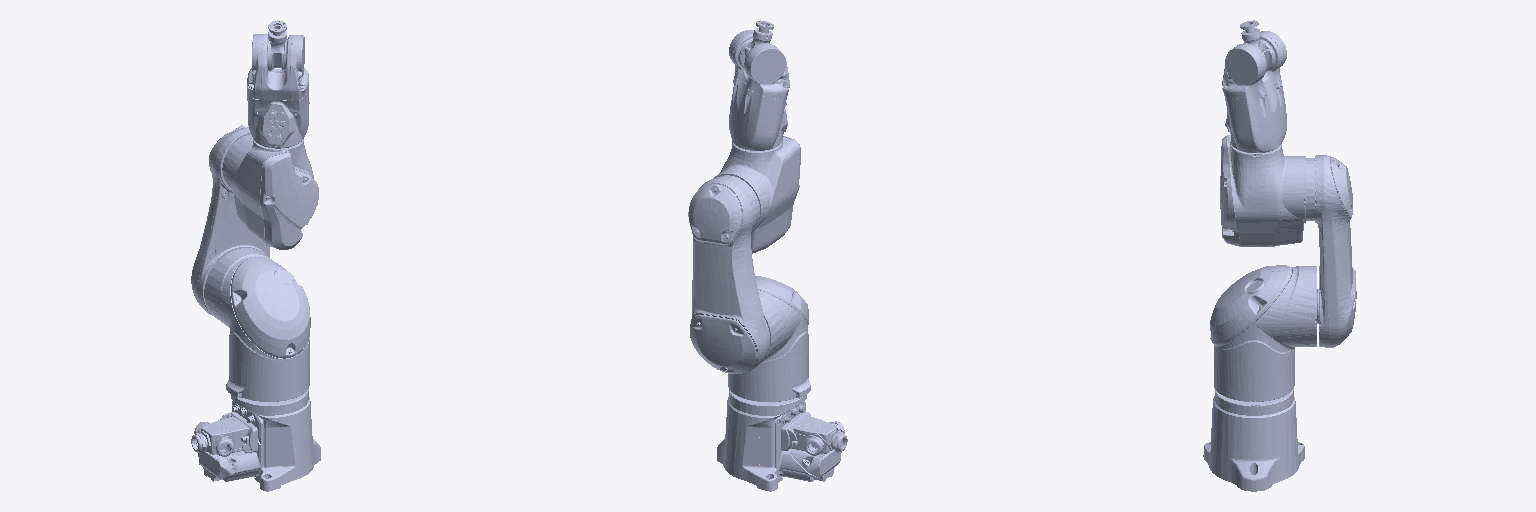
robot.urdf — staubli:
<?xml version="1.0" encoding="utf-8"?>
<!-- This URDF was automatically created by SolidWorks to URDF Exporter! Originally created by [author] ([email redacted]) 
     Commit Version: 1.5.1-0-g916b5db  Build Version: 1.5.7152.31018
     For more information, please see http://wiki.ros.org/sw_urdf_exporter -->
<robot
  name="staubli">

  <!--  %%%%%%%%%%%%%%%%%%%%%%%%%%%%%%%%%%%%%%%%%%%%%%%%%%%%%%%%%%%%%%%%%%%%%%%%%%%%%%%%%%%%%%%%%%%%%%  -->
  <!--  For display  -->
  <link name="world" />
  <joint name="world_joint" type="fixed">
      <parent link="world" />
      <child link="base" />
      <origin xyz="0.0 0.0 0.0" rpy="-1.57 0.0 0.0" />
  </joint>

  <link
    name="base">
    <inertial>
      <origin
        xyz="-0.036093 -0.0011918 0.08178"
        rpy="0 0 0" />
      <mass
        value="7.5748" />
      <inertia
        ixx="0.029538"
        ixy="-8.9594E-05"
        ixz="0.00038731"
        iyy="0.027722"
        iyz="9.1547E-06"
        izz="0.022274" />
    </inertial>
    <visual>
      <origin
        xyz="0 0 0"
        rpy="0 0 0" />
      <geometry>
        <mesh
          filename="package://staubli/meshes/base.STL" />
      </geometry>
      <material
        name="">
        <color
          rgba="0.79216 0.81961 0.93333 1" />
      </material>
    </visual>
    <collision>
      <origin
        xyz="0 0 0"
        rpy="0 0 0" />
      <geometry>
        <mesh
          filename="package://staubli/meshes/base.STL" />
      </geometry>
    </collision>
  </link>
  <link
    name="shoulder">
    <inertial>
      <origin
        xyz="-0.00023698 -0.13392 0.023184"
        rpy="0 0 0" />
      <mass
        value="7.2296" />
      <inertia
        ixx="0.059563"
        ixy="0.00017994"
        ixz="-4.0104E-05"
        iyy="0.037079"
        iyz="0.010038"
        izz="0.050678" />
    </inertial>
    <visual>
      <origin
        xyz="0 0 0"
        rpy="0 0 0" />
      <geometry>
        <mesh
          filename="package://staubli/meshes/shoulder.STL" />
      </geometry>
      <material
        name="">
        <color
          rgba="0.79216 0.81961 0.93333 1" />
      </material>
    </visual>
    <collision>
      <origin
        xyz="0 0 0"
        rpy="0 0 0" />
      <geometry>
        <mesh
          filename="package://staubli/meshes/shoulder.STL" />
      </geometry>
    </collision>
  </link>
  <joint
    name="base_shoulder_joint"
    type="revolute">
    <origin
      xyz="0 -0.19562 0"
      rpy="0 0 0" />
    <parent
      link="base" />
    <child
      link="shoulder" />
    <axis
      xyz="0 1 0" />
    <limit
      lower="-2.9671" upper="2.9671"
      effort="20"
      velocity="2" />
    <!--dynamics
      damping="0.7"
      friction="100" /-->
  </joint>
  <link
    name="arm">
    <inertial>
      <origin
        xyz="0.001767 -0.12741 0.041731"
        rpy="0 0 0" />
      <mass
        value="4.1314" />
      <inertia
        ixx="0.063289"
        ixy="0.00024419"
        ixz="2.1544E-05"
        iyy="0.0084984"
        iyz="-0.0015531"
        izz="0.068274" />
    </inertial>
    <visual>
      <origin
        xyz="0 0 0"
        rpy="0 0 0" />
      <geometry>
        <mesh
          filename="package://staubli/meshes/arm.STL" />
      </geometry>
      <material
        name="">
        <color
          rgba="0.79216 0.81961 0.93333 1" />
      </material>
    </visual>
    <collision>
      <origin
        xyz="0 0 0"
        rpy="0 0 0" />
      <geometry>
        <mesh
          filename="package://staubli/meshes/arm.STL" />
      </geometry>
    </collision>
  </link>
  <joint
    name="shoulder_arm_joint"
    type="revolute">
    <origin
      xyz="0 -0.18638 0.13"
      rpy="0 0 0.083621" />
    <parent
      link="shoulder" />
    <child
      link="arm" />
    <axis
      xyz="0 0 1" />
    <limit
      lower="-2.9671" upper="2.9671"
      effort="20"
      velocity="2" />
    <!--dynamics
      damping="0.7"
      friction="100" /-->
  </joint>
  <link
    name="elbow">
    <inertial>
      <origin
        xyz="-0.0038856 0.0079479 -0.10609"
        rpy="0 0 0" />
      <mass
        value="4.7834" />
      <inertia
        ixx="0.029621"
        ixy="0.00014964"
        ixz="-0.00068515"
        iyy="0.01953"
        iyz="-0.00061223"
        izz="0.022392" />
    </inertial>
    <visual>
      <origin
        xyz="0 0 0"
        rpy="0 0 0" />
      <geometry>
        <mesh
          filename="package://staubli/meshes/elbow.STL" />
      </geometry>
      <material
        name="">
        <color
          rgba="0.79216 0.81961 0.93333 1" />
      </material>
    </visual>
    <collision>
      <origin
        xyz="0 0 0"
        rpy="0 0 0" />
      <geometry>
        <mesh
          filename="package://staubli/meshes/elbow.STL" />
      </geometry>
    </collision>
  </link>
  <joint
    name="arm_elbow_joint"
    type="revolute">
    <origin
      xyz="0 -0.29 0"
      rpy="0 0 -0.083621" />
    <parent
      link="arm" />
    <child
      link="elbow" />
    <axis
      xyz="0 0 1" />
    <limit
      lower="-2.9671" upper="2.9671"
      effort="20"
      velocity="2" />
    <!--dynamics
      damping="0.7"
      friction="100" /-->
  </joint>
  <link
    name="forearm">
    <inertial>
      <origin
        xyz="-0.0028825 7.4416E-07 0.10602"
        rpy="0 0 0" />
      <mass
        value="2.2867" />
      <inertia
        ixx="0.0056823"
        ixy="3.2614E-08"
        ixz="-0.00022641"
        iyy="0.004438"
        iyz="-6.8535E-07"
        izz="0.0043222" />
    </inertial>
    <visual>
      <origin
        xyz="0 0 0"
        rpy="0 0 0" />
      <geometry>
        <mesh
          filename="package://staubli/meshes/forearm.STL" />
      </geometry>
      <material
        name="">
        <color
          rgba="0.79216 0.81961 0.93333 1" />
      </material>
    </visual>
    <collision>
      <origin
        xyz="0 0 0"
        rpy="0 0 0" />
      <geometry>
        <mesh
          filename="package://staubli/meshes/forearm.STL" />
      </geometry>
    </collision>
  </link>
  <joint
    name="elbow_forarm_joint"
    type="revolute">
    <origin
      xyz="0 -0.10845 -0.1253"
      rpy="1.5708 -0.9718 0" />
    <parent
      link="elbow" />
    <child
      link="forearm" />
    <axis
      xyz="0 0 1" />
    <limit
      lower="-2.9671" upper="2.9671"
      effort="20"
      velocity="2" />
    <!--dynamics
      damping="0.7"
      friction="100" /-->
  </joint>
  <link
    name="wrist">
    <inertial>
      <origin
        xyz="0.00019039 -0.01525 -0.00049904"
        rpy="0 0 0" />
      <mass
        value="0.11471" />
      <inertia
        ixx="8.4067E-05"
        ixy="-3.5655E-07"
        ixz="-4.7628E-11"
        iyy="2.9425E-05"
        iyz="4.1043E-09"
        izz="9.5321E-05" />
    </inertial>
    <visual>
      <origin
        xyz="0 0 0"
        rpy="0 0 0" />
      <geometry>
        <mesh
          filename="package://staubli/meshes/wrist.STL" />
      </geometry>
      <material
        name="">
        <color
          rgba="0.79216 0.81961 0.93333 1" />
      </material>
    </visual>
    <collision>
      <origin
        xyz="0 0 0"
        rpy="0 0 0" />
      <geometry>
        <mesh
          filename="package://staubli/meshes/wrist.STL" />
      </geometry>
    </collision>
  </link>
  <joint
    name="forarm_wrist_joint"
    type="revolute">
    <origin
      xyz="0 0 0.20175"
      rpy="-1.5708 0.23604 3.1416" />
    <parent
      link="forearm" />
    <child
      link="wrist" />
    <axis
      xyz="0 0 1" />
    <limit
      lower="-2.9671" upper="2.9671"
      effort="20"
      velocity="2" />
    <!--dynamics
      damping="0.7"
      friction="100" /-->
  </joint>
  <link
    name="flange">
    <inertial>
      <origin
        xyz="-0.00019716 2.5532E-09 0.010257"
        rpy="0 0 0" />
      <mass
        value="0.0088462" />
      <inertia
        ixx="1.0446E-06"
        ixy="1.8452E-11"
        ixz="6.6235E-09"
        iyy="1.0168E-06"
        iyz="1.3124E-15"
        izz="1.5808E-06" />
    </inertial>
    <visual>
      <origin
        xyz="0 0 0"
        rpy="0 0 0" />
      <geometry>
        <mesh
          filename="package://staubli/meshes/flange.STL" />
      </geometry>
      <material
        name="">
        <color
          rgba="0.79216 0.81961 0.93333 1" />
      </material>
    </visual>
    <collision>
      <origin
        xyz="0 0 0"
        rpy="0 0 0" />
      <geometry>
        <mesh
          filename="package://staubli/meshes/flange.STL" />
      </geometry>
    </collision>
  </link>
  <joint
    name="wrist_flange_joint"
    type="revolute">
    <origin
      xyz="0 -0.062155 -0.0005"
      rpy="-1.5708 -0.9718 3.1416" />
    <parent
      link="wrist" />
    <child
      link="flange" />
    <axis
      xyz="0 0 1" />
    <limit
      lower="-2.9671" upper="2.9671"
      effort="20"
      velocity="2" />
    <!--dynamics
      damping="0.7"
      friction="100" /-->
  </joint>
</robot>

--- What the picture shows (computed from the rendered views, not written in the file) ---
The picture shows the robot from 3 angles, left to right: view 1: azimuth 30°, elevation 25°; view 2: azimuth 150°, elevation 25°; view 3: azimuth 270°, elevation 25°; orthographic projection.
Model staubli with 8 links and 7 joints (6 revolute, 1 fixed), rooted at world, posed all joints at 0.
Links seen in each view (by area): view 1: shoulder, base, elbow, forearm, arm; view 2: arm, base, shoulder, forearm, elbow; view 3: shoulder, elbow, base, arm, forearm.
Boxes of the visible links, <box> form: shoulder: <box>204,248,310,401</box>; base: <box>191,389,320,491</box>; elbow: <box>222,134,318,249</box>; forearm: <box>247,34,309,148</box>; arm: <box>191,125,269,317</box>; arm: <box>688,177,769,373</box>; base: <box>717,389,847,491</box>; shoulder: <box>728,276,810,401</box>; forearm: <box>729,30,789,150</box>; elbow: <box>714,136,800,253</box>; shoulder: <box>1210,265,1316,401</box>; elbow: <box>1220,135,1314,246</box>; base: <box>1203,389,1304,491</box>; arm: <box>1315,155,1356,347</box>; forearm: <box>1222,31,1286,152</box>.
Bounding box of the posed robot: 0.3094 × 0.3287 × 1.06 m (x, y, z).
7 mesh visuals loaded from 7 distinct referenced files (7 binary STL).